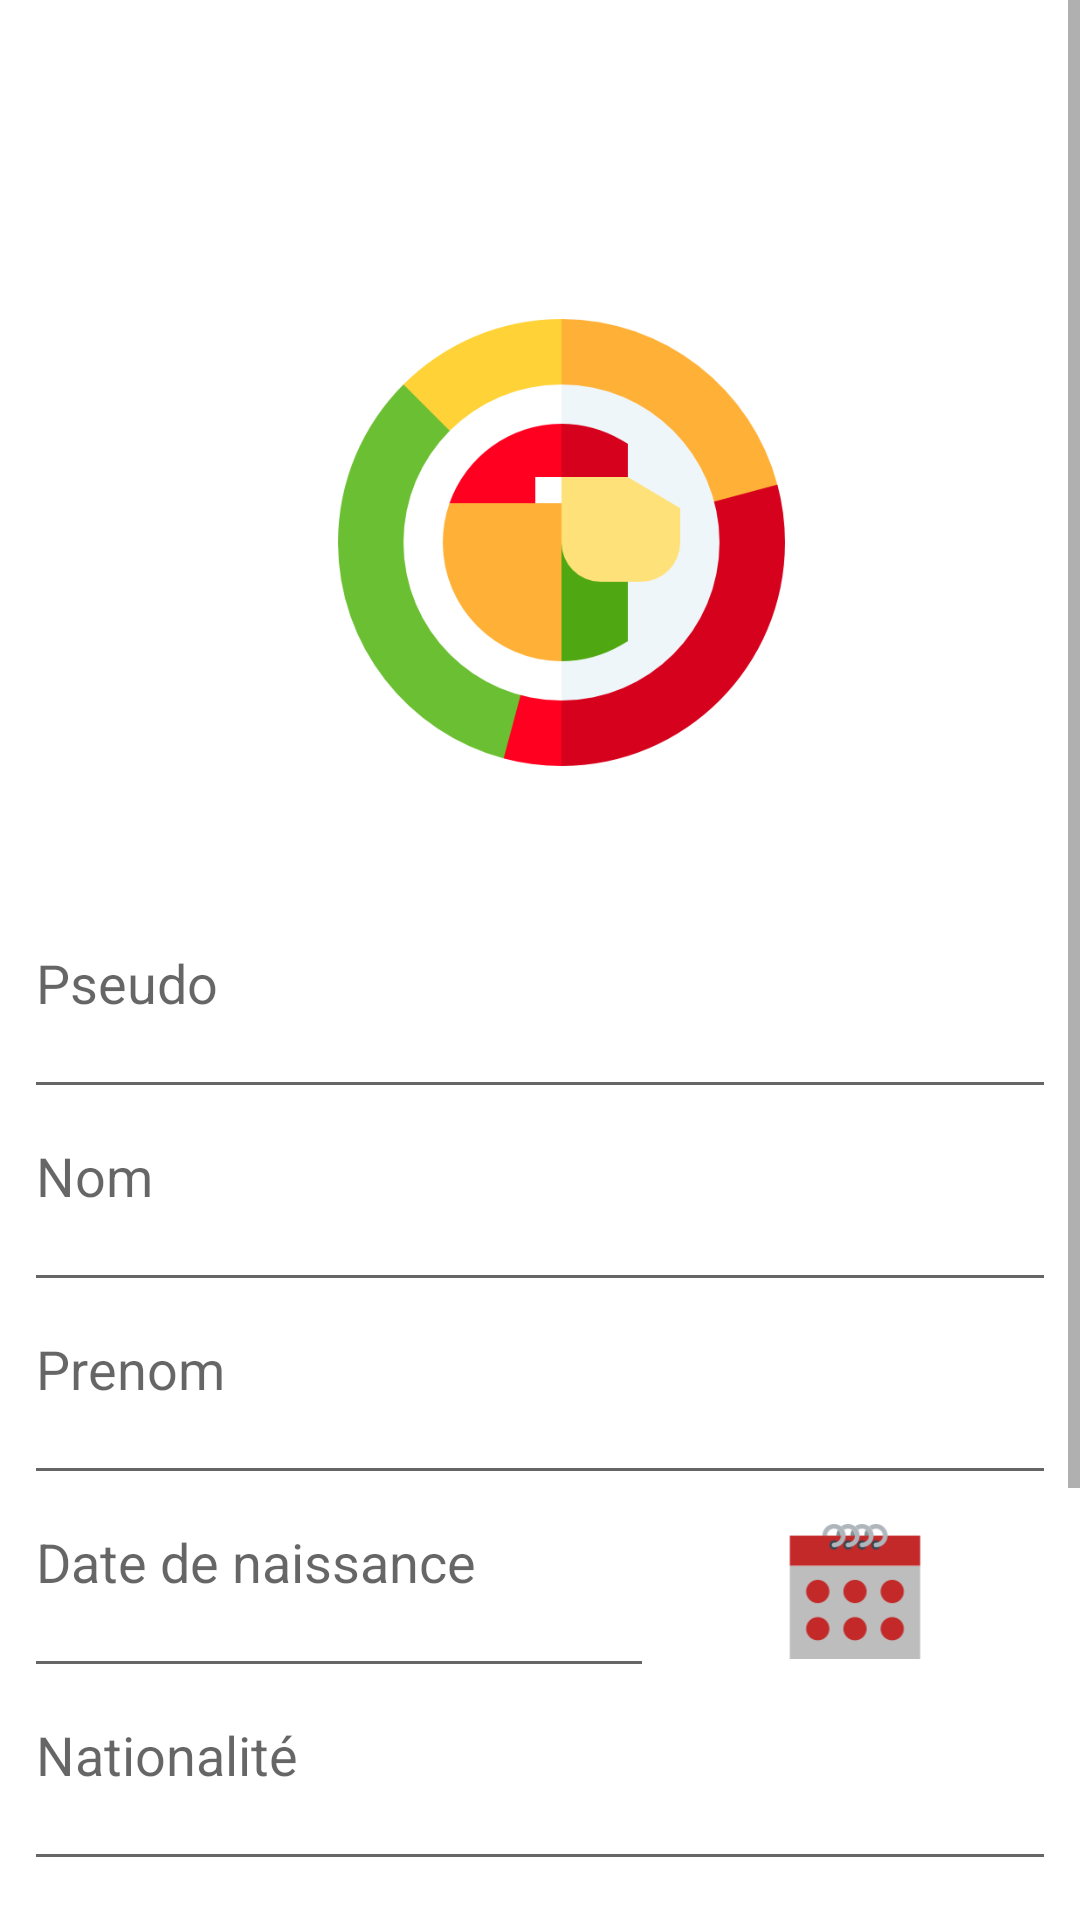

Icons on this 1080w x 1920h Android screen, each with the point to tap as point (x, y):
calendar: point (855, 1591)
